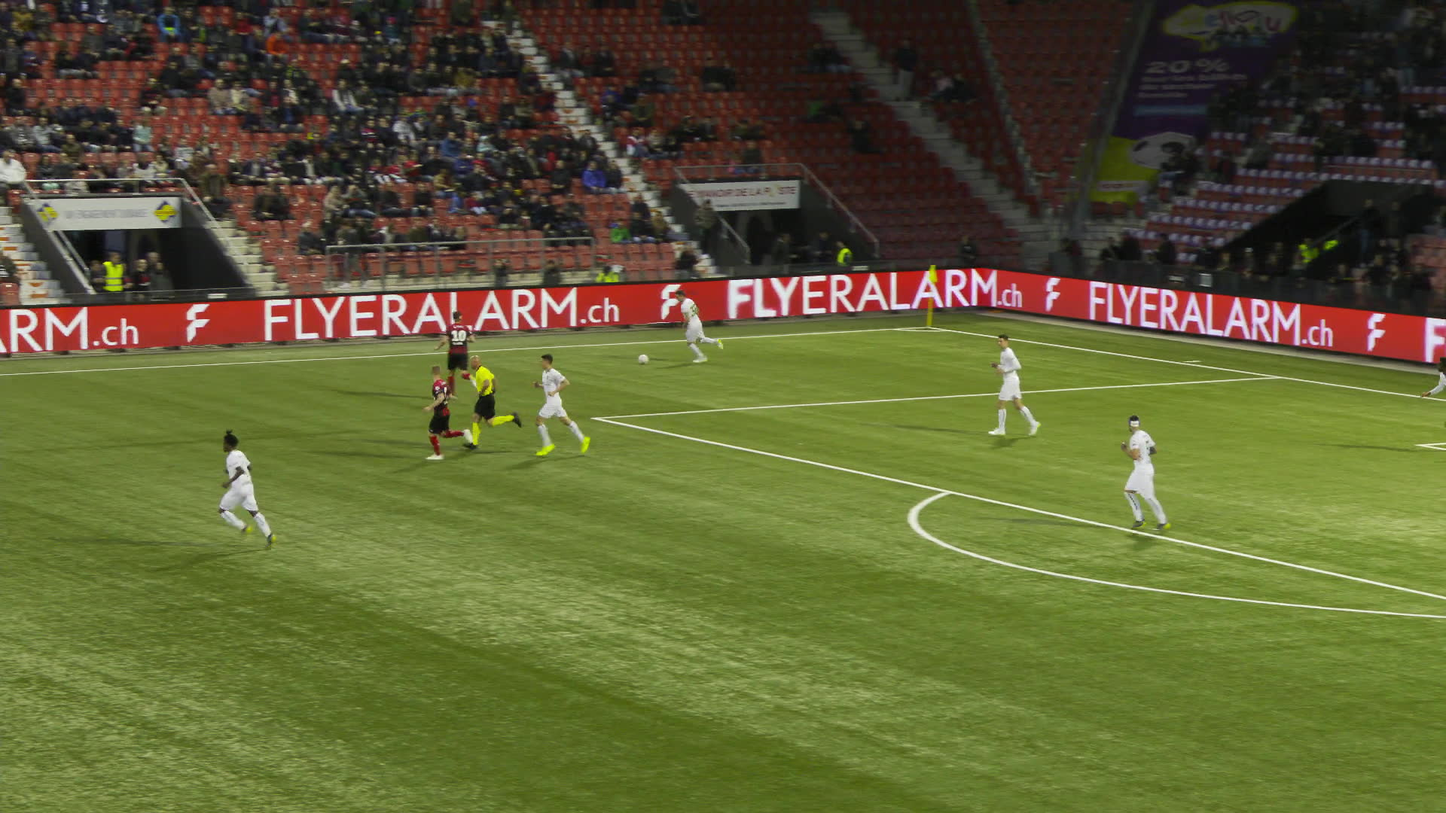ball: (636, 353, 646, 363)
player: (416, 363, 477, 458), (219, 432, 267, 549), (532, 355, 586, 455), (1117, 416, 1164, 530), (988, 335, 1036, 436), (671, 288, 725, 362), (433, 309, 477, 388), (1420, 356, 1445, 428)
referee: (459, 354, 522, 448)
